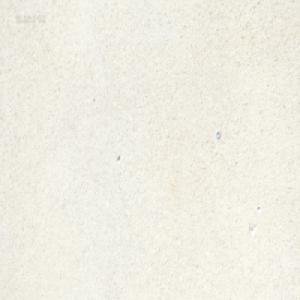Washer: (215, 129, 220, 139)
